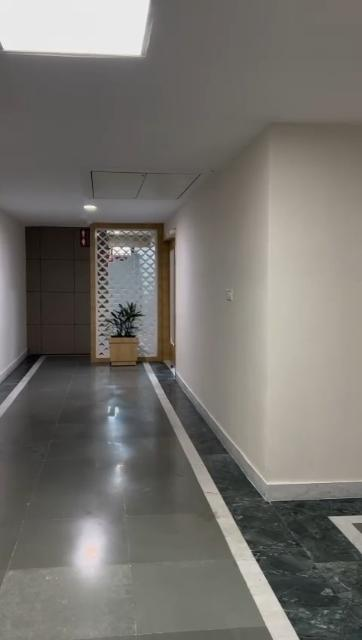door: (162, 242, 174, 364)
floor: (0, 356, 361, 640)
object: (108, 301, 142, 367)
wall: (173, 122, 362, 486), (0, 209, 31, 381)
